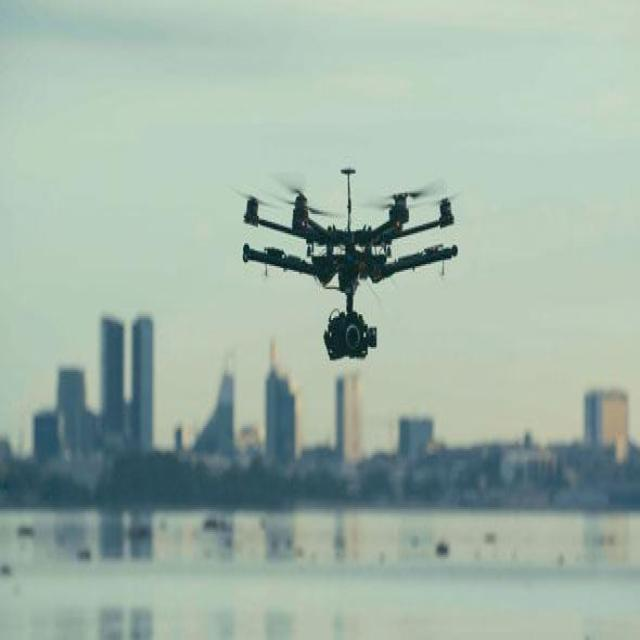drone: (232, 162, 460, 364)
